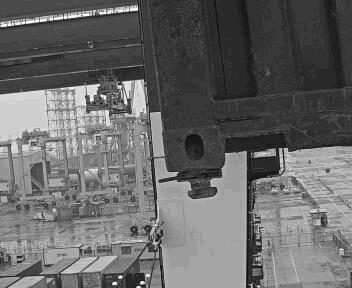twist_lock_1: (178, 163, 237, 201)
